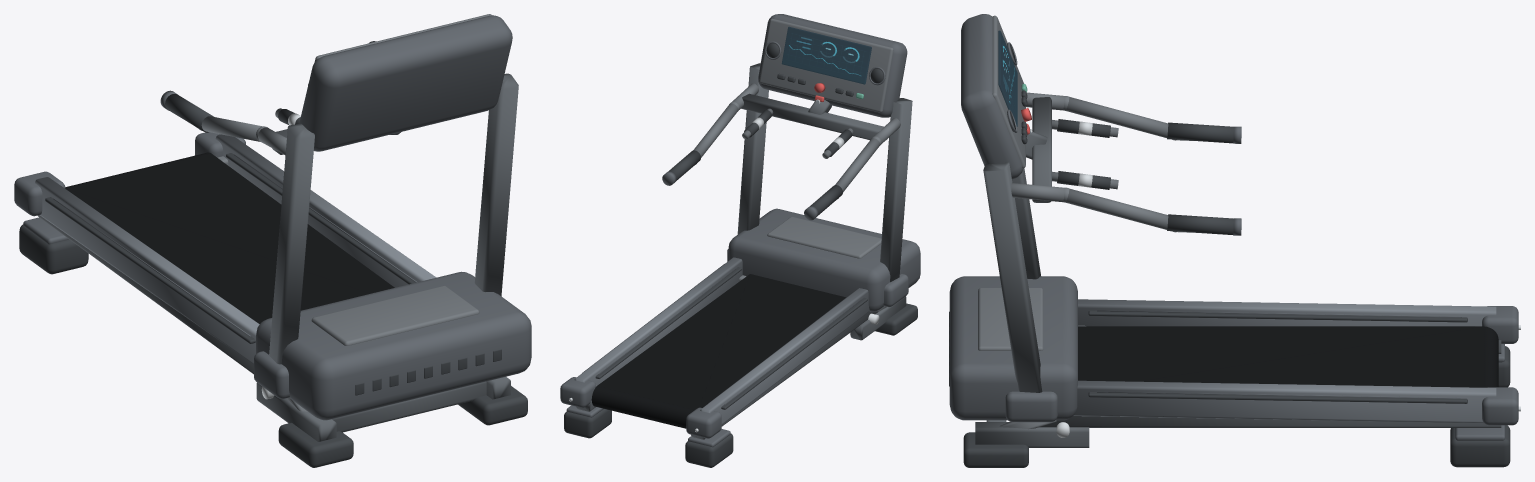
File: treadmill.glb
3 views of the same model, side by side, from view 1: azimuth 30°, elevation 25°; view 2: azimuth 150°, elevation 25°; view 3: azimuth 270°, elevation 25° (orthographic). The views are drawn at different scales.
Parts seen in each view (by area): view 1: Running_belt_Belt, Motor_housing_Plastic, Digital_console_Plastic, Side_rail_assemblies_Trim, Handrails_and_uprights_Frame, Fixed_Rubber, Motor_housing_Arm, Fixed_Frame, Side_rail_assemblies_Rubber, Side_rail_assemblies_Plastic, Handrails_and_uprights_Arm, Running_frame_Frame (+4 smaller); view 2: Running_belt_Belt, Handrails_and_uprights_Frame, Motor_housing_Plastic, Side_rail_assemblies_Trim, Digital_console_Arm, Digital_console_Screen, Digital_console_Plastic, Fixed_Rubber, Motor_housing_Arm, Side_rail_assemblies_Plastic, Handrails_and_uprights_Arm, Side_rail_assemblies_Rubber (+6 smaller); view 3: Running_belt_Belt, Side_rail_assemblies_Trim, Motor_housing_Plastic, Handrails_and_uprights_Frame, Digital_console_Plastic, Handrails_and_uprights_Arm, Side_rail_assemblies_Rubber, Fixed_Rubber, Running_frame_Frame, Side_rail_assemblies_Plastic, Handrails_and_uprights_Rubber, Motor_housing_Arm (+5 smaller).
Part boxes in pixels (box(x1,y1,x2,y2)): Running_belt_Belt: box(65, 152, 394, 323); Motor_housing_Plastic: box(256, 271, 531, 420); Digital_console_Plastic: box(299, 15, 512, 151); Side_rail_assemblies_Trim: box(35, 134, 435, 364); Handrails_and_uprights_Frame: box(269, 73, 518, 364); Fixed_Rubber: box(19, 224, 527, 467); Motor_housing_Arm: box(311, 285, 479, 345); Fixed_Frame: box(256, 377, 510, 441); Side_rail_assemblies_Rubber: box(45, 153, 415, 343); Side_rail_assemblies_Plastic: box(14, 132, 417, 336); Handrails_and_uprights_Arm: box(195, 108, 286, 155); Running_frame_Frame: box(38, 215, 253, 374); Running_belt_Belt: box(591, 274, 845, 428); Handrails_and_uprights_Frame: box(737, 63, 912, 282); Motor_housing_Plastic: box(728, 208, 920, 311); Side_rail_assemblies_Trim: box(574, 257, 869, 424); Digital_console_Arm: box(759, 18, 893, 112); Digital_console_Screen: box(781, 26, 871, 84); Digital_console_Plastic: box(758, 14, 907, 117); Fixed_Rubber: box(564, 303, 917, 467); Motor_housing_Arm: box(767, 216, 881, 258); Side_rail_assemblies_Plastic: box(560, 268, 861, 438); Handrails_and_uprights_Arm: box(693, 83, 900, 199); Side_rail_assemblies_Rubber: box(582, 264, 867, 409); Running_belt_Belt: box(1078, 326, 1498, 387); Side_rail_assemblies_Trim: box(1073, 299, 1496, 423); Motor_housing_Plastic: box(949, 276, 1077, 420); Handrails_and_uprights_Frame: box(983, 97, 1051, 392); Digital_console_Plastic: box(961, 14, 1022, 179); Handrails_and_uprights_Arm: box(1011, 92, 1193, 232); Side_rail_assemblies_Rubber: box(1088, 310, 1467, 403); Fixed_Rubber: box(963, 346, 1510, 467); Running_frame_Frame: box(1039, 340, 1501, 427); Side_rail_assemblies_Plastic: box(1097, 306, 1518, 425); Handrails_and_uprights_Rubber: box(1057, 119, 1233, 234); Motor_housing_Arm: box(978, 288, 1043, 350).
Size of the model in its own units: 0.97 by 1.55 by 2.19.
Materials: 11 (2 with a texture image).
